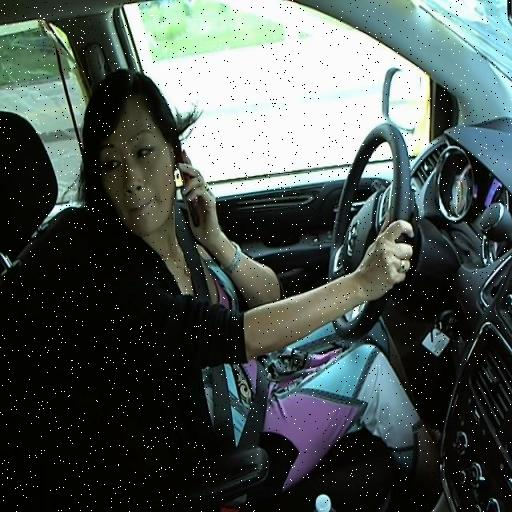talking_phone: (80, 141, 418, 439)
